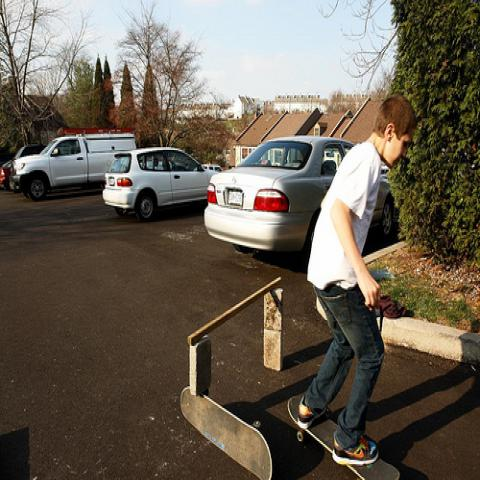car: (204, 134, 395, 254), (101, 147, 214, 222), (1, 140, 48, 190), (202, 164, 223, 171)
truck: (9, 130, 136, 202)
